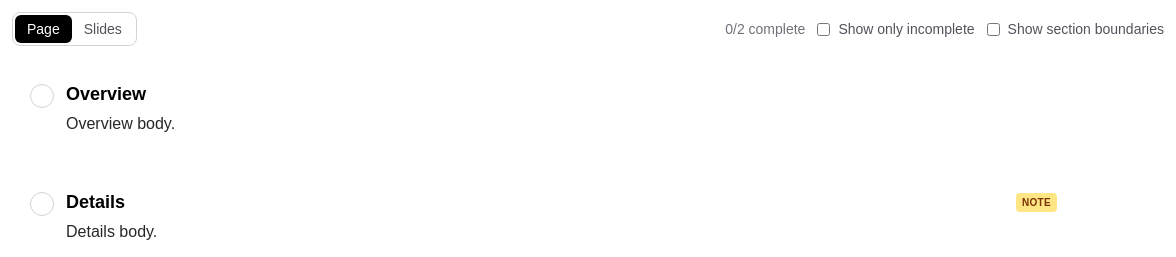
Test: ContentBlocks › completion tracking › toggling again marks a block back as not done
Click the 1st button named "Mark as done": (42, 96) [30,84,54,108]
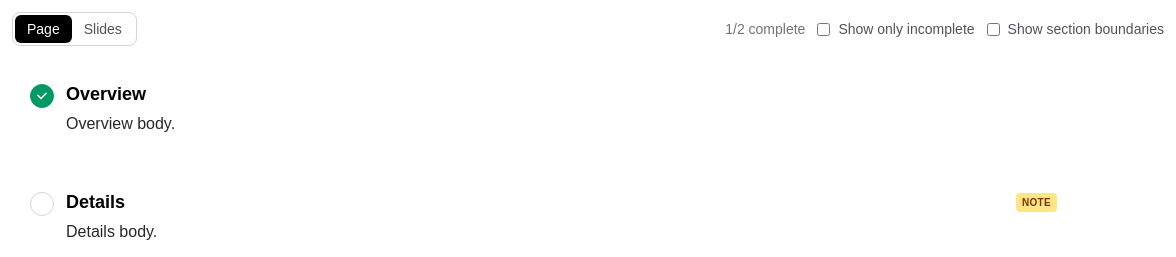
Now the text "1/2 complete" is shown, box [725,19,805,39]
Click the button named "Mark as not done": (42, 96) [30,84,54,108]
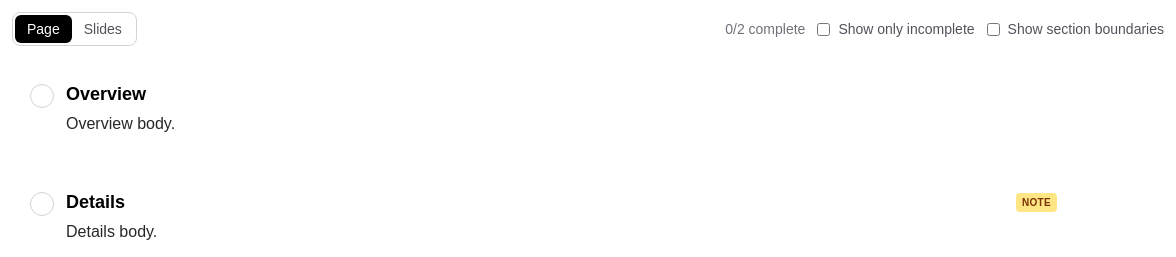
Now the text "0/2 complete" is shown, box [725,19,805,39]
